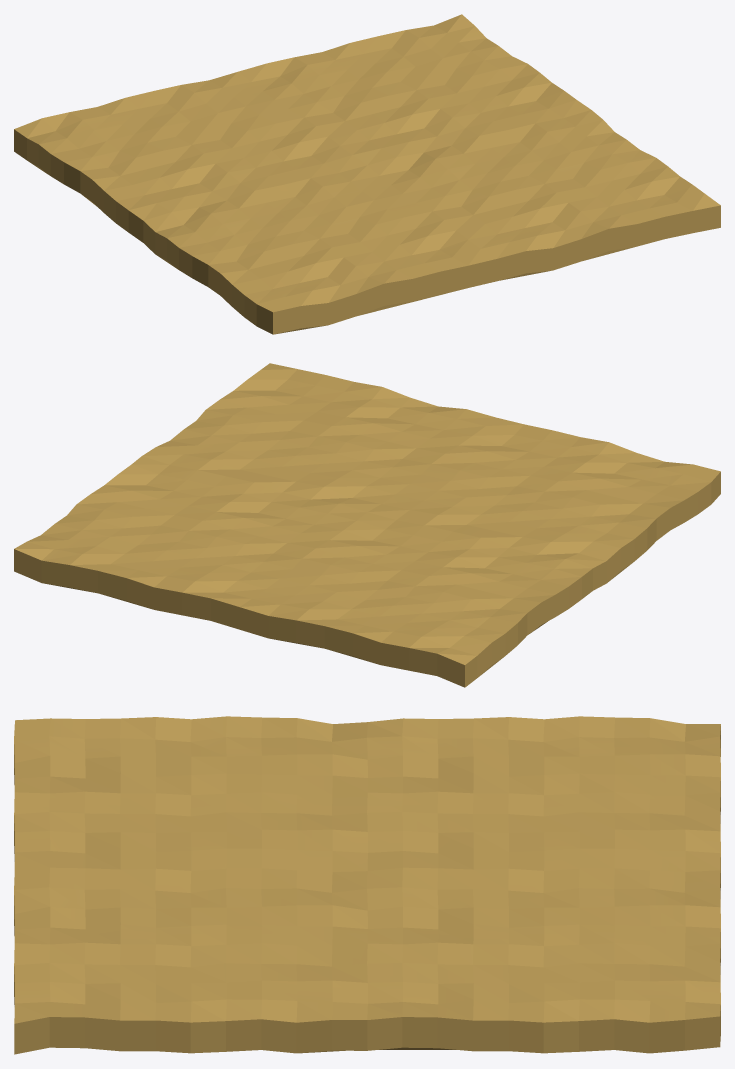
File: sand_3.FBX
3 views of the same model, one above another, from view 1: azimuth 30°, elevation 25°; view 2: azimuth 150°, elevation 25°; view 3: azimuth 270°, elevation 25° (orthographic). The views are drawn at different scales.
Parts seen in each view (by area): view 1: sand_2; view 2: sand_2; view 3: sand_2.
Part boxes in pixels (x1,y1,x2,y2): sand_2: (14, 14, 720, 334); sand_2: (14, 363, 720, 687); sand_2: (14, 716, 720, 1054).
Bounding box in the file's own units: 10337 × 621 × 10173.
